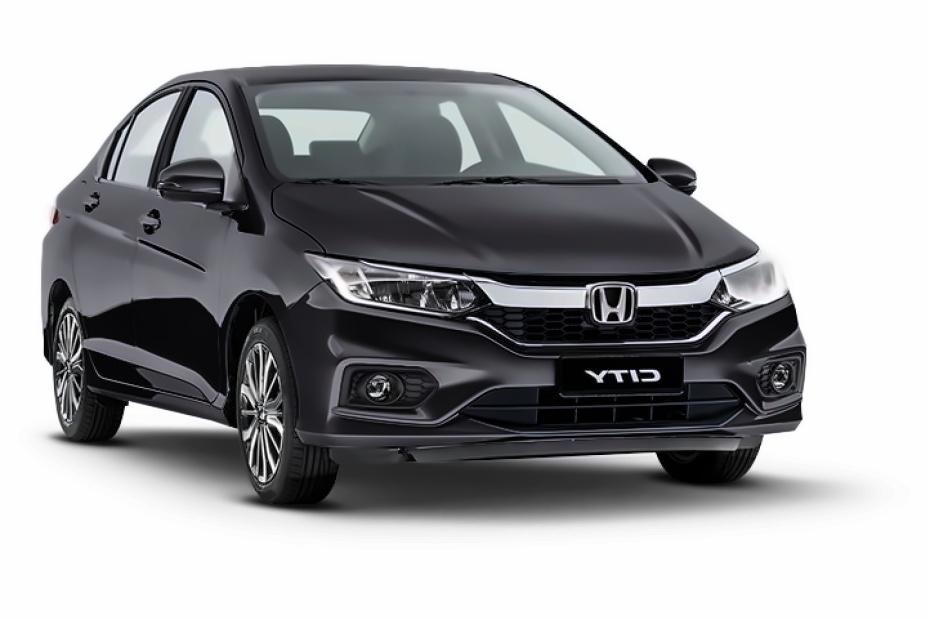Car hood: (267, 180, 760, 275)
Driver-s door - -F-R-: (134, 77, 252, 408)
Fender - -F-R-: (209, 164, 329, 427)
Fender - -R-R-: (49, 218, 103, 400)
Front bumper: (277, 284, 814, 456)
Headlight - -L-: (702, 242, 796, 323)
Headlight - -R-: (287, 234, 504, 322)
Passenger-s door - -R-R-: (67, 82, 183, 386)
Rear bumper: (36, 251, 53, 382)
Rear light - -R-: (37, 200, 75, 238)
Side bumper - -R-: (70, 351, 246, 442)
Side mirror - -L-: (634, 149, 706, 197)
Side mirror - -R-: (153, 149, 234, 213)
